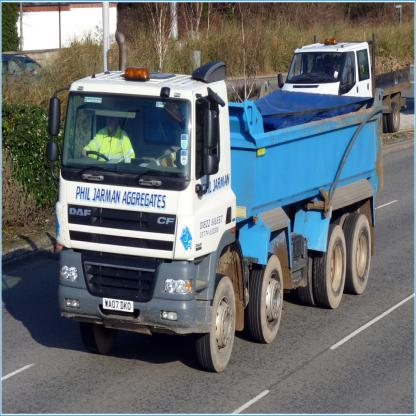Car: (2, 54, 52, 81)
